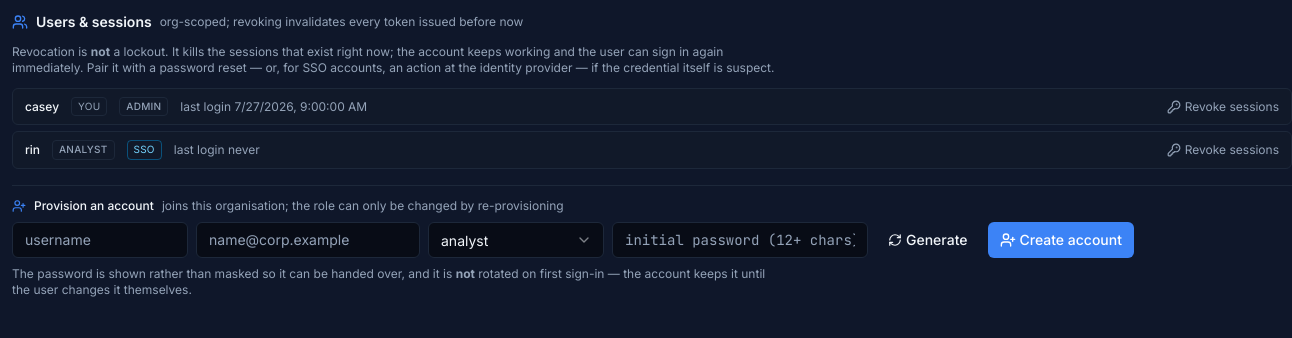
SessionRevocationPanel › provisioning › surfaces the server's rejection verbatim
The image size is (1292, 338).
Expected: the form with test id "provision-user-form" is shown, x1=12 y1=185 x2=1291 y2=298
In the field with test id "provision-username": (100, 240) x1=12 y1=222 x2=188 y2=258, type "sam"
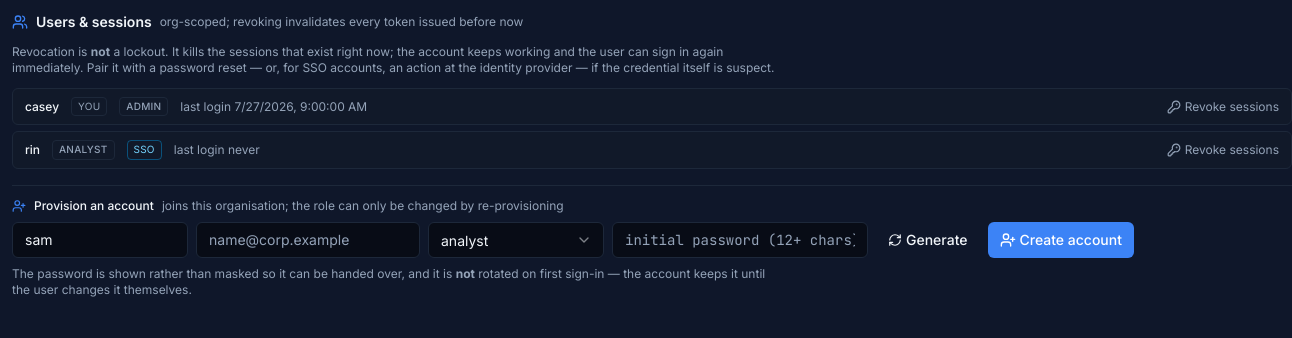
In the field with test id "provision-email": (308, 240) x1=196 y1=222 x2=420 y2=258, type "sam@corp.test"
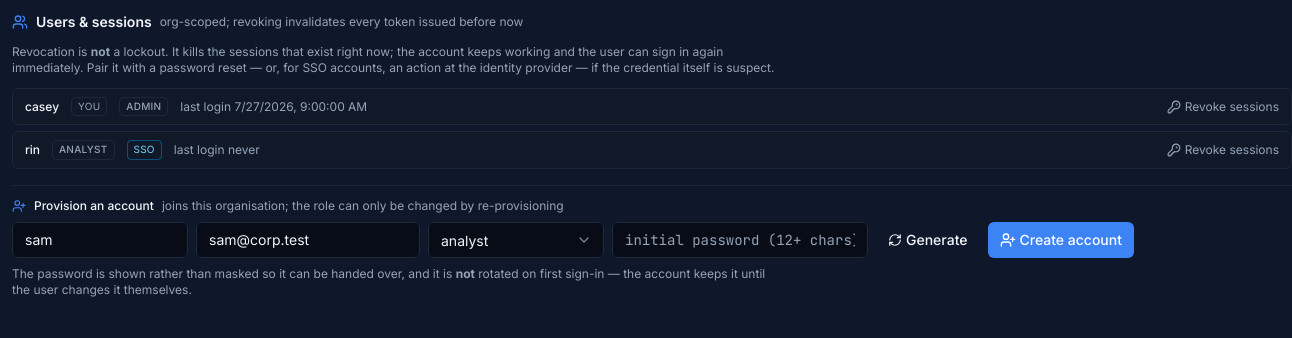
In the field with test id "provision-password": (740, 240) x1=612 y1=222 x2=868 y2=258, type "a-long-enough-pw"
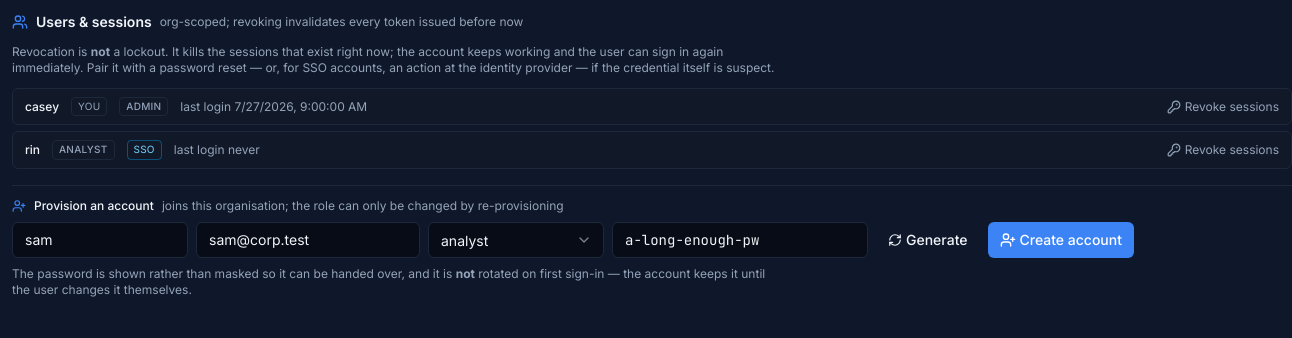
Click the button with test id "provision-submit": (1061, 240) x1=988 y1=222 x2=1134 y2=258
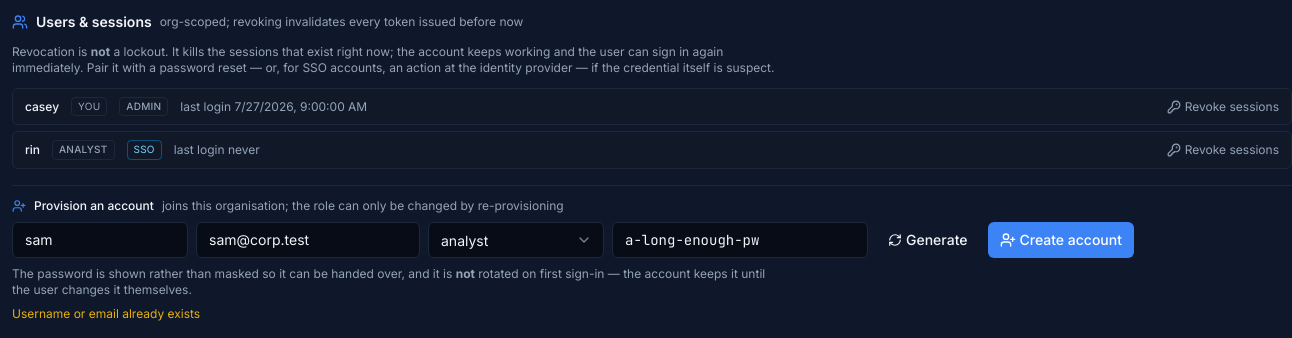
Now the message with test id "provision-error" shows "already exists", box x1=12 y1=306 x2=200 y2=321
